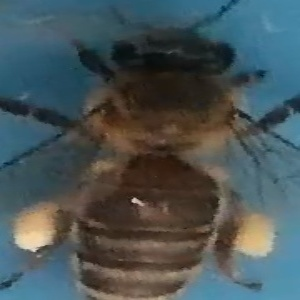bee: (12, 12, 290, 300)
